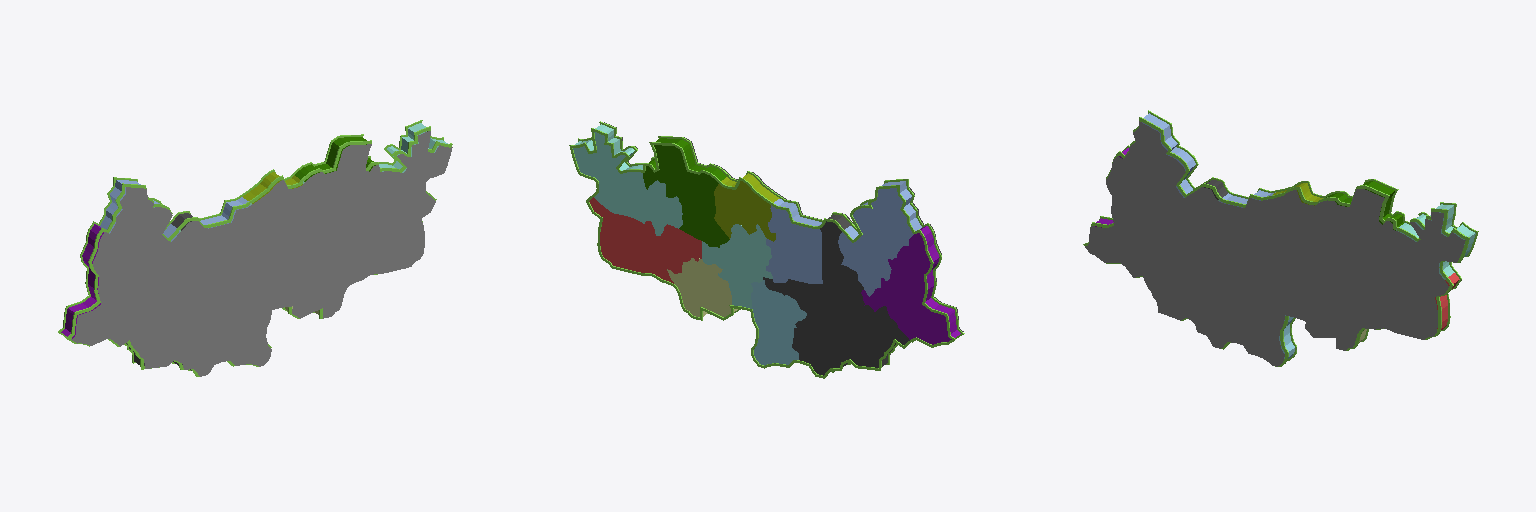
Rendered from deqing05.obj.
The picture shows the model from 3 angles: view 1: azimuth 30°, elevation 25°; view 2: azimuth 150°, elevation 25°; view 3: azimuth 330°, elevation 25°; orthographic projection.
Visible parts, largest first — view 1: texture, top_border, bottom_border, fatou_bottom, zhongguan_bottom, moganshan_bottom; view 2: wukang_bottom, fatou_bottom, xinshi_bottom, moganshan_bottom, zhongguan_bottom, bottom_border, buxi_bottom, qiyuan_bottom, xiazhuhu_bottom, xinan_bottom, luoshe_bottom, leidian_bottom (+2 smaller); view 3: texture, top_border, bottom_border, xinshi_bottom, moganshan_bottom, zhongguan_bottom.
Boxes of the visible parts, x1,y1,x2,y2 form: texture: [71, 131, 452, 376]; top_border: [66, 126, 452, 376]; bottom_border: [58, 120, 443, 370]; fatou_bottom: [61, 224, 100, 336]; zhongguan_bottom: [295, 137, 373, 179]; moganshan_bottom: [100, 180, 176, 237]; wukang_bottom: [763, 214, 909, 375]; fatou_bottom: [861, 226, 960, 344]; xinshi_bottom: [573, 124, 682, 235]; moganshan_bottom: [838, 181, 921, 296]; zhongguan_bottom: [643, 138, 729, 247]; bottom_border: [569, 128, 955, 378]; buxi_bottom: [766, 199, 822, 283]; qiyuan_bottom: [702, 224, 772, 308]; xiazhuhu_bottom: [751, 280, 806, 365]; xinan_bottom: [628, 217, 701, 283]; luoshe_bottom: [714, 173, 779, 241]; leidian_bottom: [667, 258, 737, 316]; texture: [1085, 121, 1465, 366]; top_border: [1083, 117, 1469, 366]; bottom_border: [1099, 110, 1478, 360]; xinshi_bottom: [1399, 204, 1475, 276]; moganshan_bottom: [1144, 113, 1195, 193]; zhongguan_bottom: [1326, 181, 1403, 226].
Bounding box in the file's own units: 85.89 × 45.97 × 4.24.